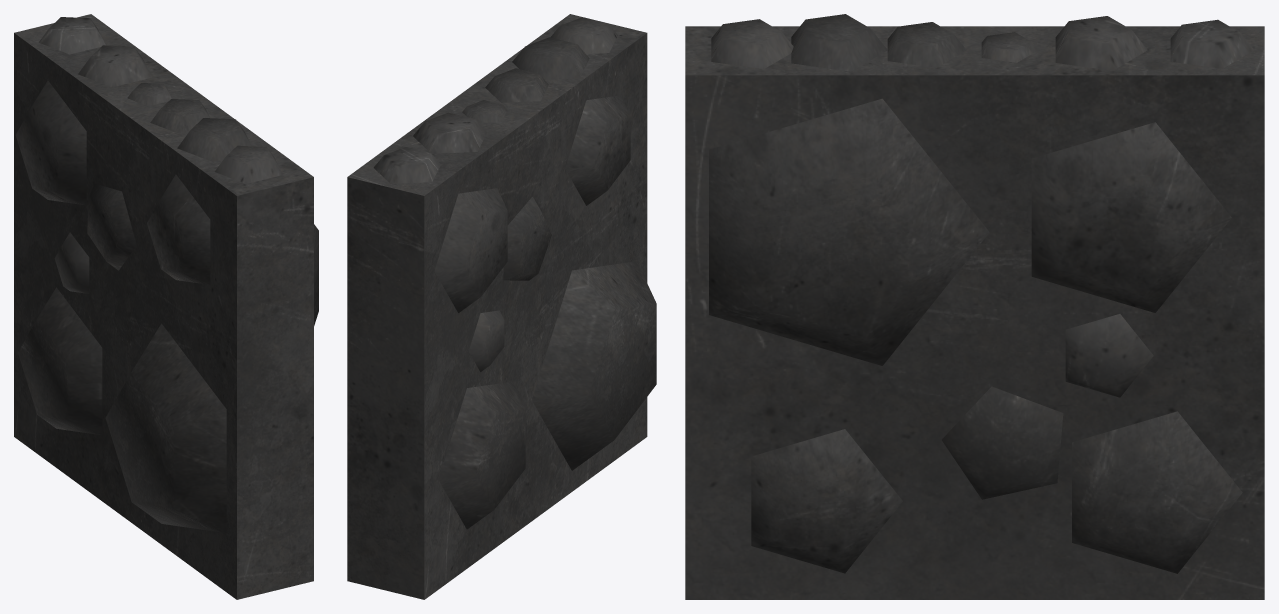
Rendered from mod_ogga_wall4.fbx.
3 views of the same model, side by side, from view 1: azimuth 30°, elevation 25°; view 2: azimuth 150°, elevation 25°; view 3: azimuth 270°, elevation 25° (orthographic). The views are drawn at different scales.
Parts seen in each view (by area): view 1: pCube13; view 2: pCube13; view 3: pCube13.
Boxes of the visible parts, bbox=[...] form: pCube13: bbox=[14, 14, 318, 599]; pCube13: bbox=[347, 14, 656, 599]; pCube13: bbox=[685, 14, 1264, 599].
Bounding box in the file's own units: 3.76 × 10.41 × 10.
